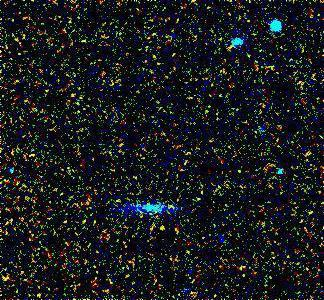star: (146, 212, 176, 242)
